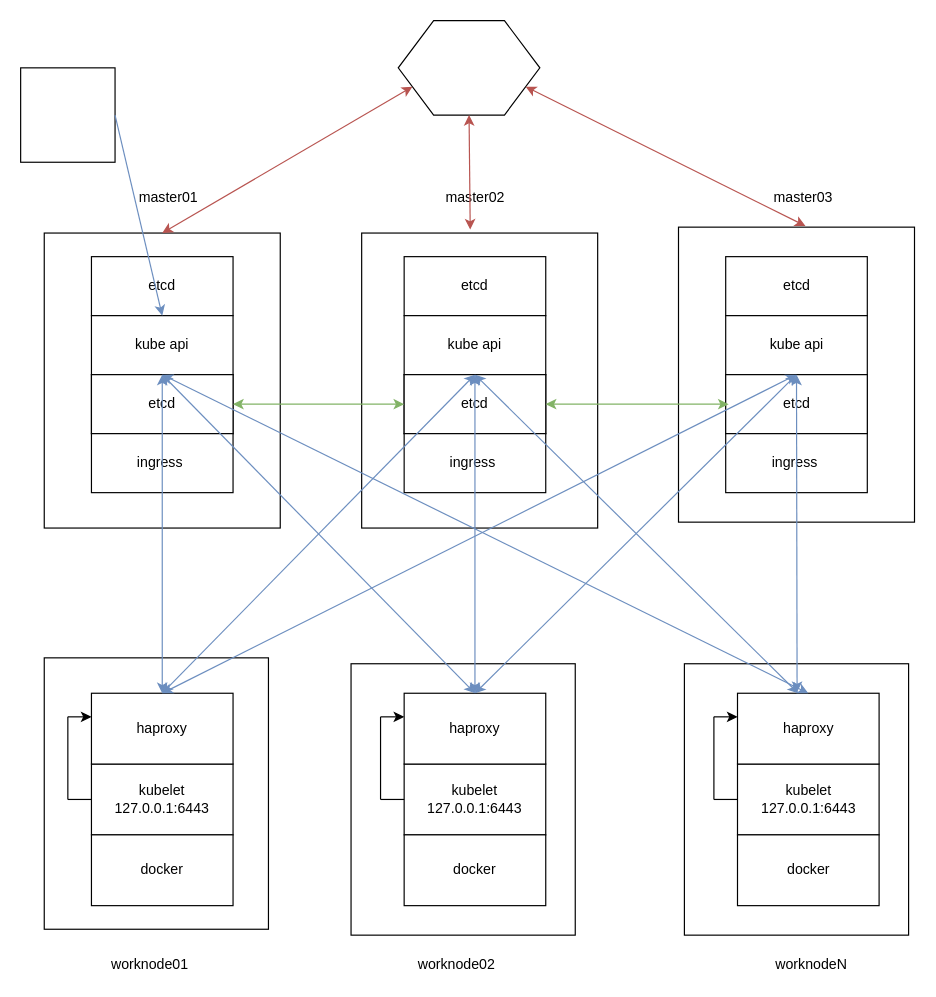
The diagram is 936 pixels wide and 997 high, and some of its shapes have lost their labels. The shapes that lost their labels are listed below. From the top down, each one's box as (x1, y1, x2, y2) in pixels, then its label:
(397, 19, 540, 115): LB
(19, 67, 115, 162): client kubectl
